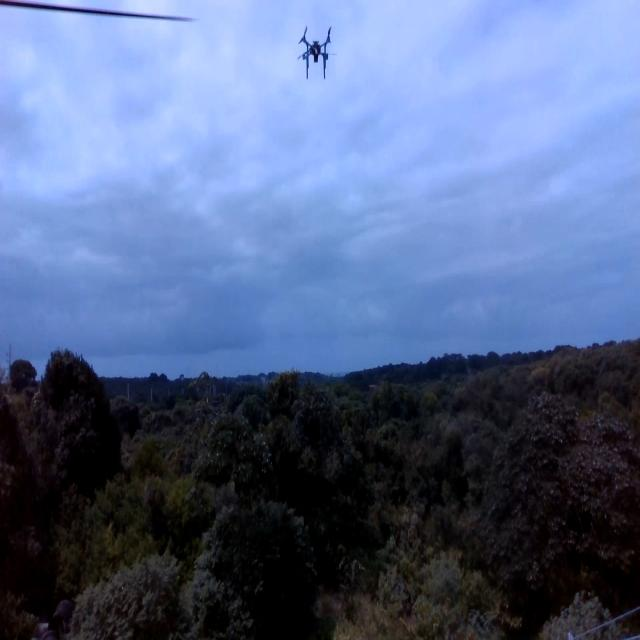-uav-: (294, 22, 344, 88)
